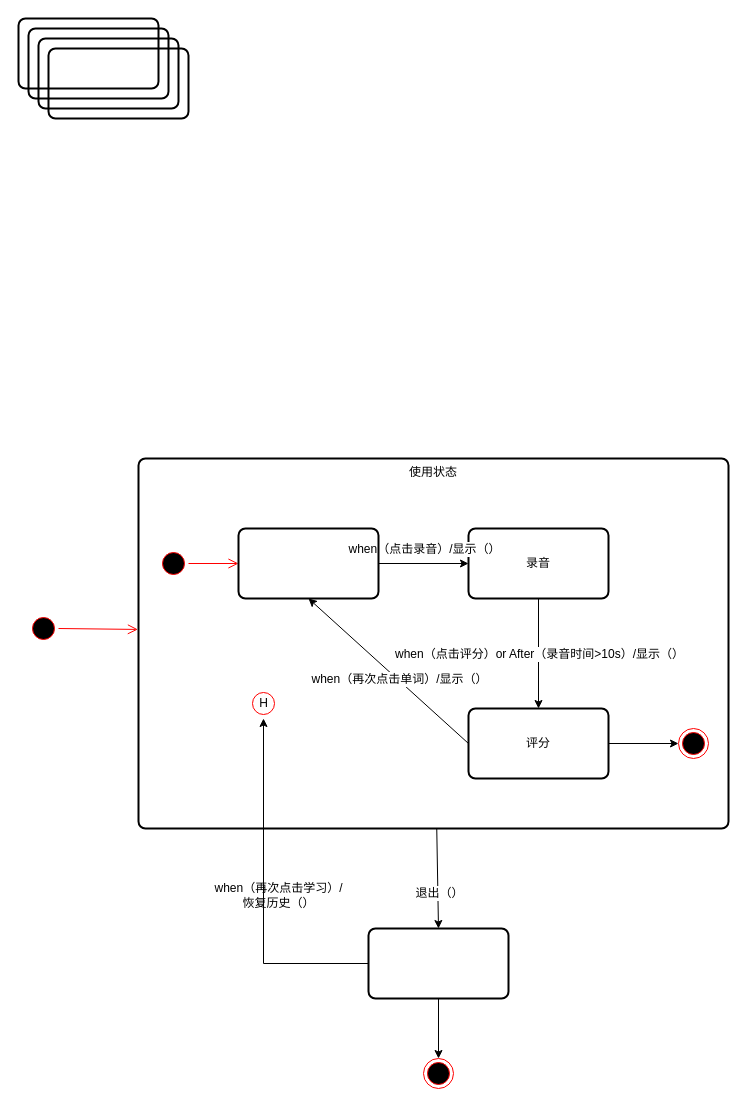
The diagram is 746 pixels wide and 1106 high, and some of its shapes have lost their labels. The centre of each missing label's shape, as x and y in pixels:
"单词选择" goes at (308,563).
"未使用状态" goes at (438,963).
